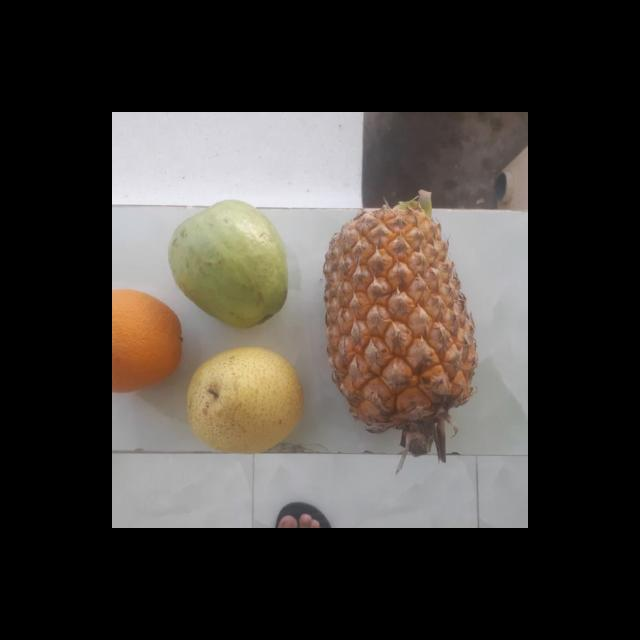guava: (168, 205, 294, 325)
orange: (112, 286, 184, 396)
pear: (182, 348, 308, 453)
pineapple: (332, 202, 476, 422)
